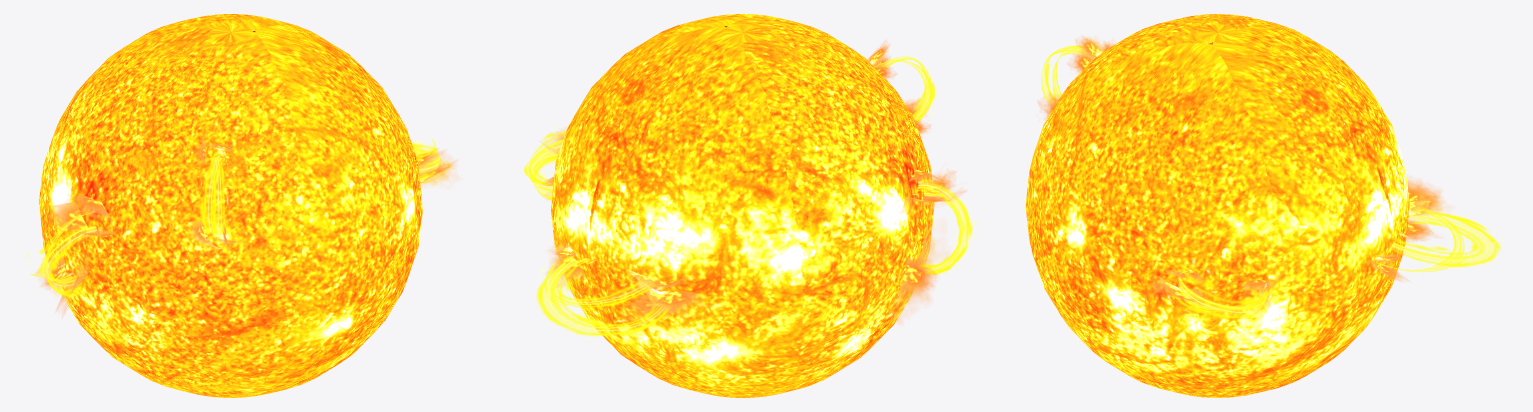
File: sun_with_solar_flares.glb
3 views of the same model, side by side, from view 1: azimuth 30°, elevation 25°; view 2: azimuth 150°, elevation 25°; view 3: azimuth 270°, elevation 25° (orthographic).
Parts seen in each view (by area): view 1: Sphere.001, Cylinder.002, Cylinder.005, Cylinder.004, Cylinder.003, Plane.003, Plane.005, Plane.016, Cylinder.001, Plane.011, Plane.010, Plane.013; view 2: Sphere.001, Cylinder.006, Cylinder.007, Cylinder.003, Plane.011, Cylinder.001, Plane.004, Plane.010, Cylinder.002, Cylinder.004, Plane.006, Plane.008 (+4 smaller); view 3: Sphere.001, Cylinder.006, Cylinder.001, Cylinder.007, Cylinder, Plane.004, Plane.001, Plane.016, Cylinder.005, Plane.006, Plane.019, Plane.000.
Boxes of the visible parts, box(x1,y1,x2,y2) form: Sphere.001: box(39, 14, 422, 397); Cylinder.002: box(22, 210, 98, 283); Cylinder.005: box(208, 157, 230, 235); Cylinder.004: box(199, 152, 229, 233); Cylinder.003: box(40, 212, 93, 297); Plane.003: box(44, 202, 103, 236); Plane.005: box(63, 193, 110, 219); Plane.016: box(419, 150, 457, 185); Cylinder.001: box(412, 133, 440, 179); Plane.011: box(56, 253, 90, 316); Plane.010: box(36, 256, 66, 294); Plane.013: box(187, 219, 222, 249); Sphere.001: box(551, 14, 934, 397); Cylinder.006: box(536, 258, 669, 339); Cylinder.007: box(540, 256, 661, 313); Cylinder.003: box(913, 179, 976, 274); Plane.011: box(888, 223, 946, 323); Cylinder.001: box(529, 126, 565, 201); Plane.004: box(637, 278, 710, 311); Plane.010: box(900, 258, 936, 294); Cylinder.002: box(917, 181, 970, 279); Cylinder.004: box(875, 60, 935, 122); Plane.006: box(622, 299, 687, 321); Plane.008: box(547, 241, 585, 286); Sphere.001: box(1025, 14, 1409, 397); Cylinder.006: box(1389, 209, 1504, 267); Cylinder.001: box(1178, 258, 1267, 319); Cylinder.007: box(1378, 205, 1472, 273); Cylinder: box(1167, 288, 1271, 312); Plane.004: box(1408, 183, 1450, 215); Plane.001: box(1407, 177, 1435, 213); Plane.016: box(1151, 276, 1208, 301); Cylinder.005: box(1041, 46, 1085, 105); Plane.006: box(1405, 219, 1441, 241); Plane.019: box(1239, 275, 1280, 298); Plane.000: box(1075, 36, 1106, 60).
Size of the model in its own units: 2.71 by 2 by 2.59.
4 materials, 4 textured.
